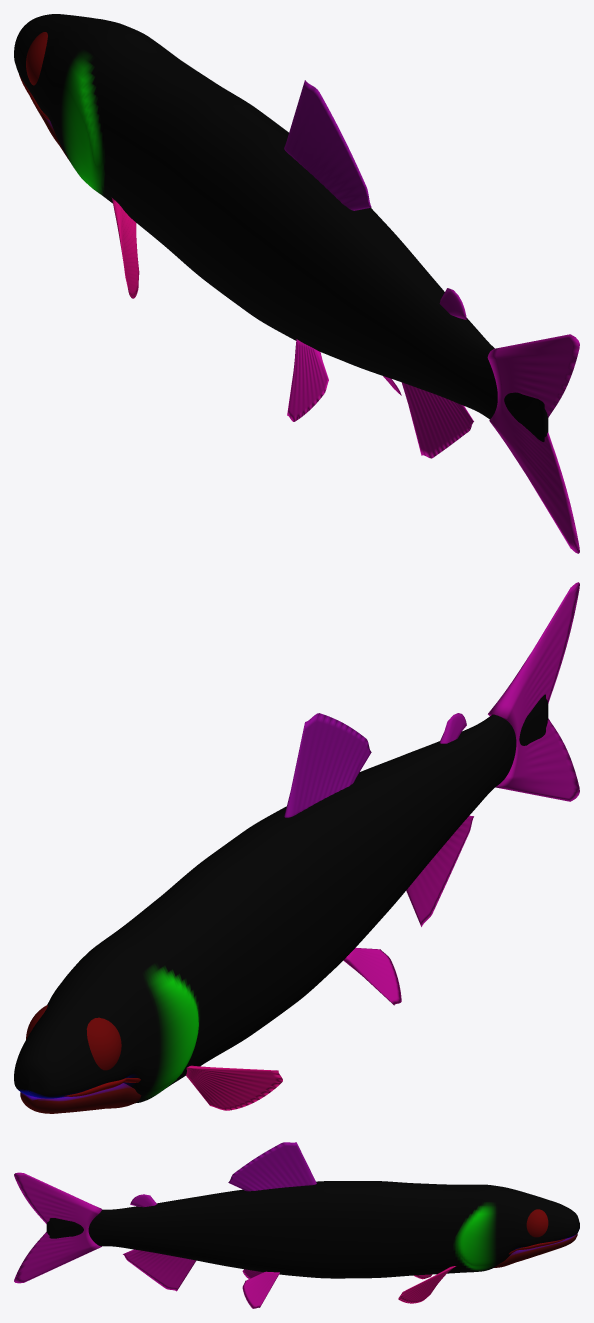
Rendered from sockeye_smolt.glb.
The picture shows the model from 3 angles, top to bottom: view 1: azimuth 30°, elevation 25°; view 2: azimuth 150°, elevation 25°; view 3: azimuth 270°, elevation 25°; orthographic projection. The views are drawn at different scales.
Parts seen in each view (by area): view 1: sockeye_smolt; view 2: sockeye_smolt; view 3: sockeye_smolt.
Boxes of the visible parts, bbox=[...] form: sockeye_smolt: bbox=[14, 14, 579, 553]; sockeye_smolt: bbox=[14, 582, 579, 1113]; sockeye_smolt: bbox=[14, 1142, 579, 1308].
Size of the model in its own units: 0.0966 by 0.1784 by 0.5971.
